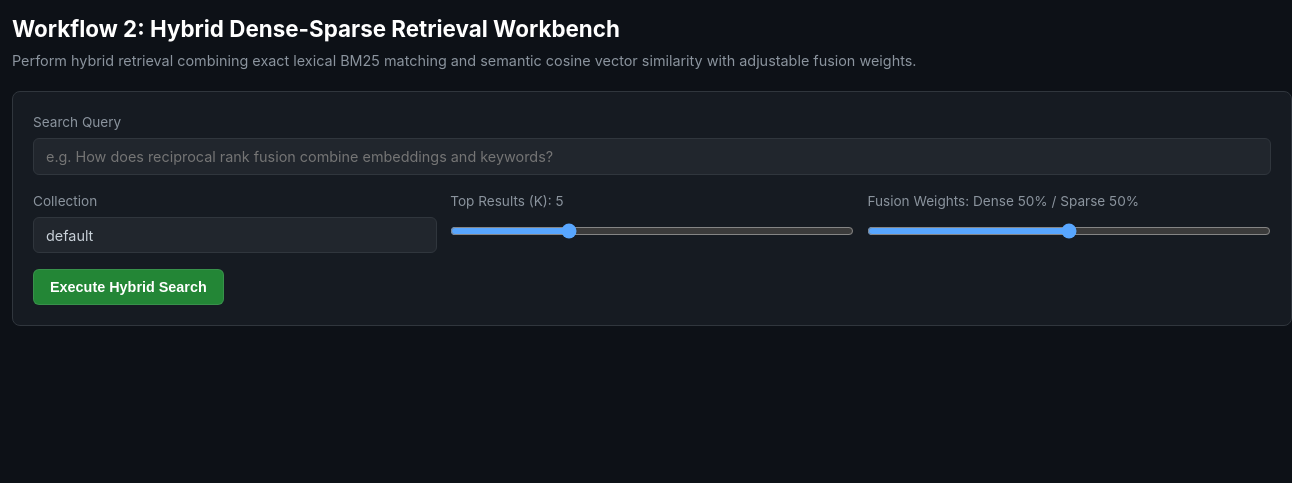
Test: SearchWorkbench Component › executes hybrid search and displays ranked results with scores
This screenshot has width=1292, height=483.
Replace the text in the field labelled "Search Query" with "reciprocal rank fusion" at {"x": 652, "y": 156}, box left=33, top=138, right=1271, bottom=175
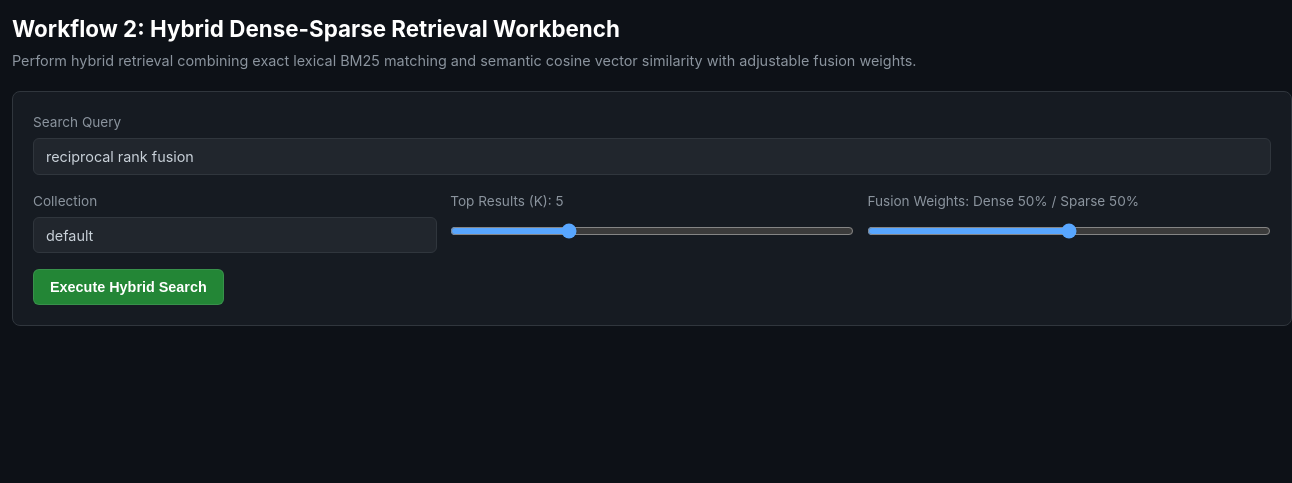
Click the button "Execute Hybrid Search" at {"x": 128, "y": 287}, box left=33, top=269, right=224, bottom=305
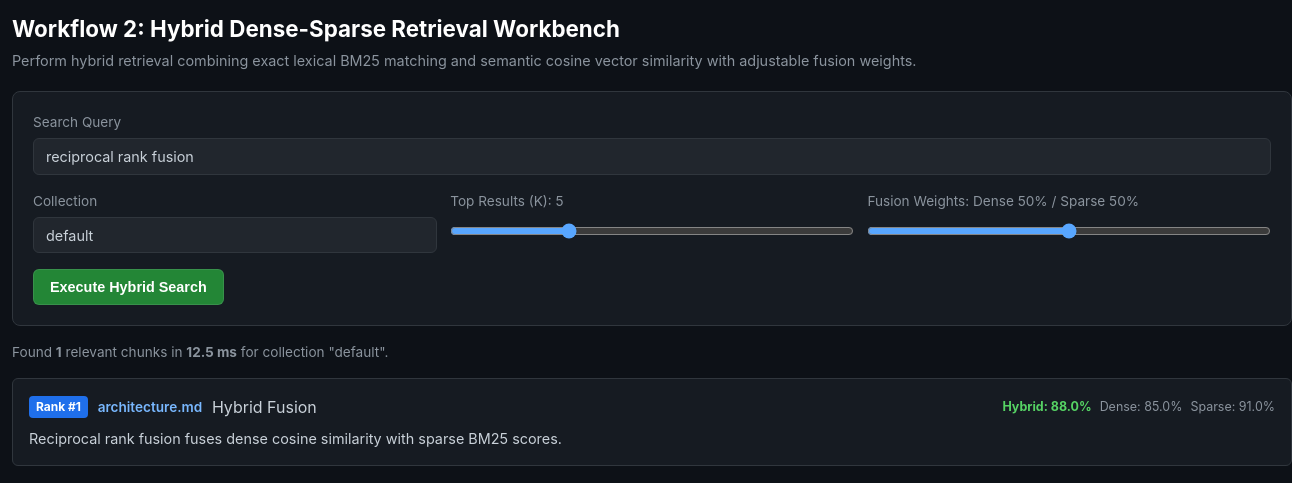
Result: the text "Rank #1" is shown at left=29, top=396, right=88, bottom=418
Result: the text "architecture.md" is shown at left=98, top=397, right=202, bottom=418
Result: the text "Reciprocal rank fusion fuses dense cosine similarity" is shown at left=29, top=430, right=562, bottom=447
